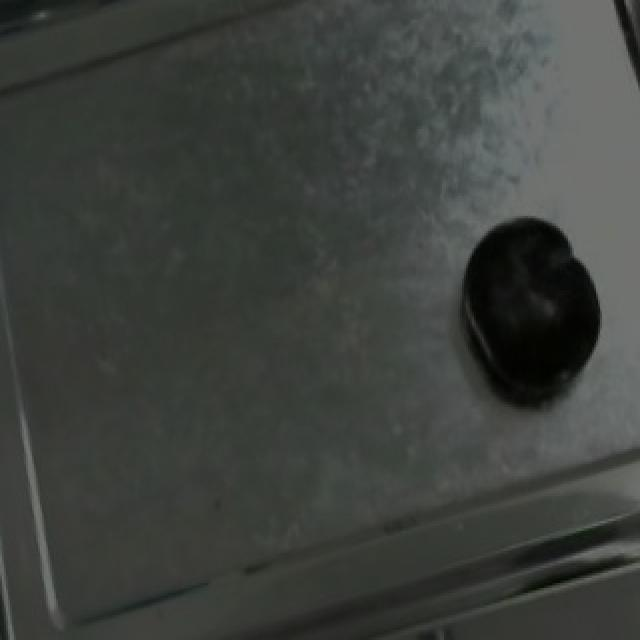Fruit: (448, 203, 618, 410)
